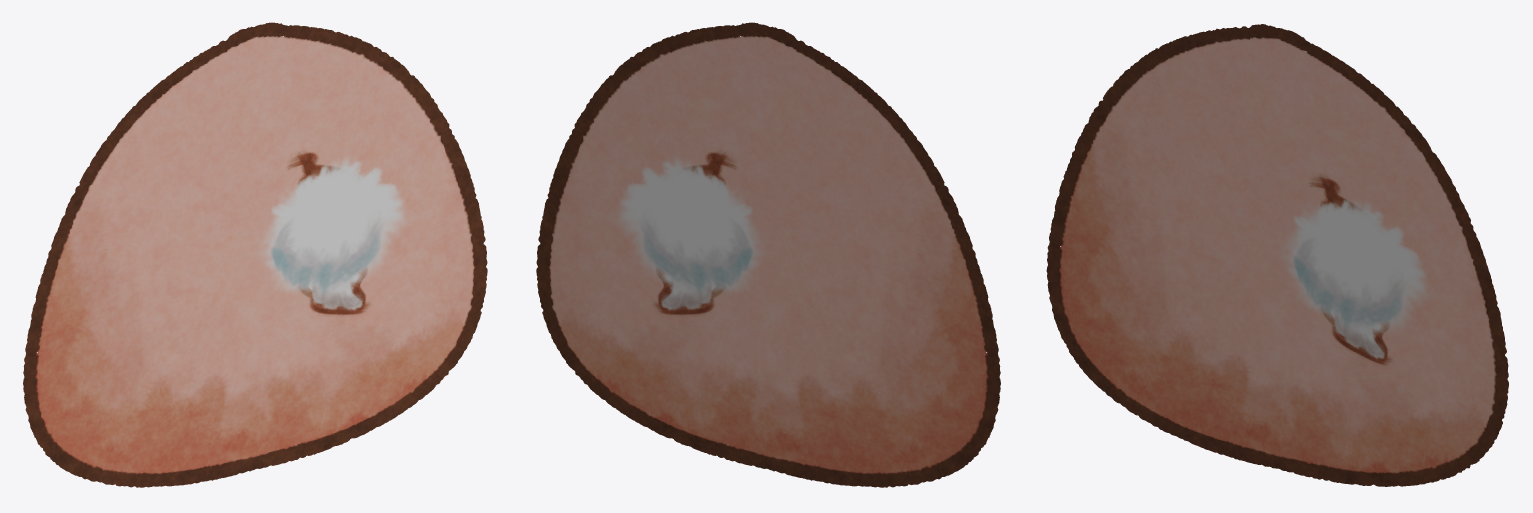
The model's file is kuma_body_after.fbx.
3 views of the same model, side by side, from view 1: azimuth 30°, elevation 25°; view 2: azimuth 150°, elevation 25°; view 3: azimuth 330°, elevation 25° (orthographic).
Visible parts, largest first — view 1: boddy1; view 2: boddy1; view 3: boddy1.
Boxes of the visible parts, box(x1,y1,x2,y2) form: boddy1: box(23, 22, 487, 487); boddy1: box(536, 22, 1000, 487); boddy1: box(1046, 24, 1508, 486).
Bounding box in the file's own units: 899 × 826 × 3.55e-05.
